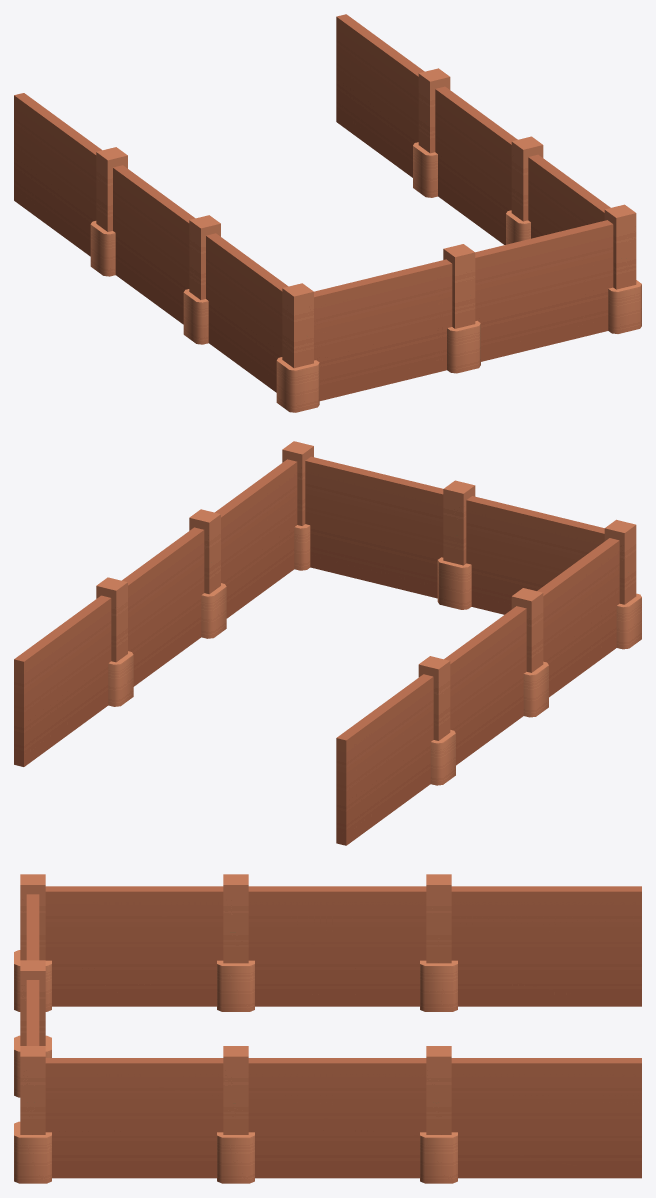
The model's file is fence_3x2.glb.
3 views of the same model, one above another, from view 1: azimuth 30°, elevation 25°; view 2: azimuth 150°, elevation 25°; view 3: azimuth 270°, elevation 25° (orthographic). The views are drawn at different scales.
Parts seen in each view (by area): view 1: fence-3x2; view 2: fence-3x2; view 3: fence-3x2.
Boxes of the visible parts, <box> form: fence-3x2: <box>14,14,641,412</box>; fence-3x2: <box>14,441,641,845</box>; fence-3x2: <box>14,874,641,1183</box>.
Bounding box in the file's own units: 0.875 × 0.27 × 1.24.
Materials: 1 (1 with a texture image).
